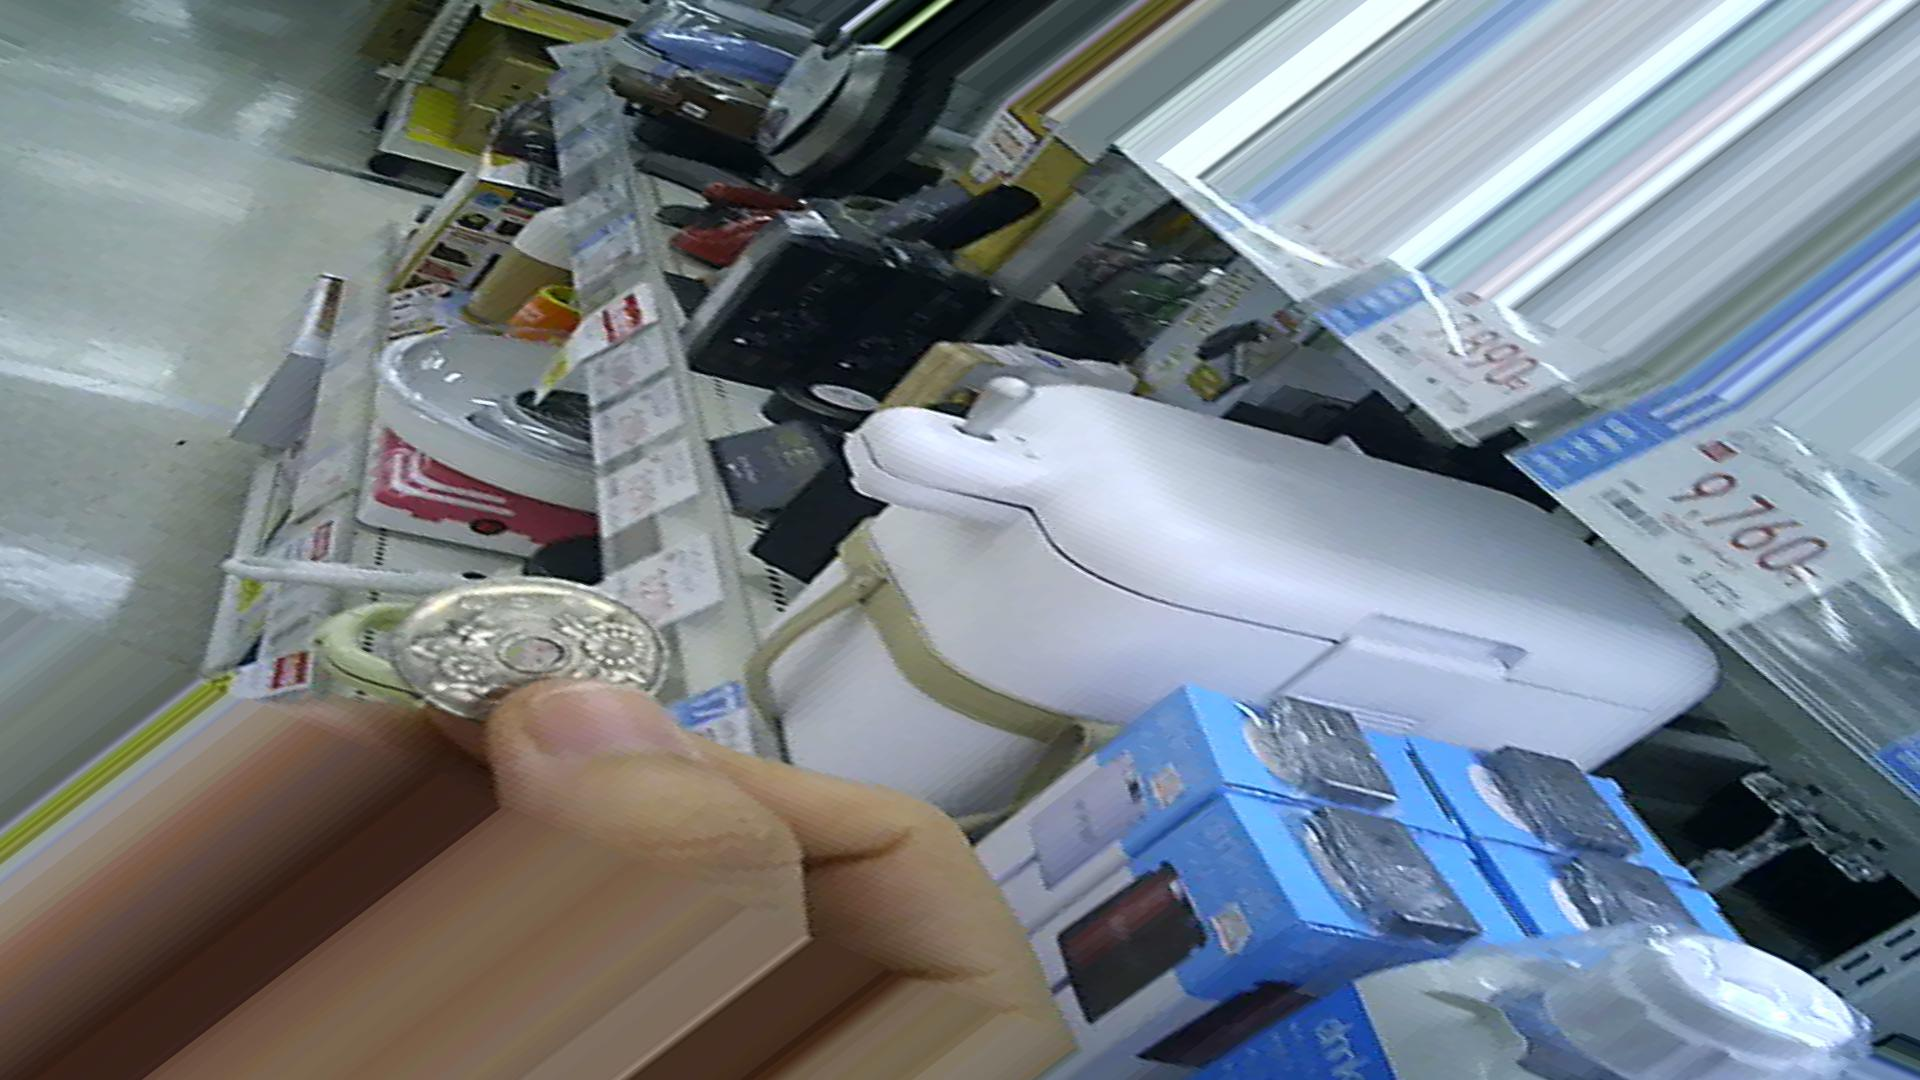50 Yen: (400, 568, 673, 738)
